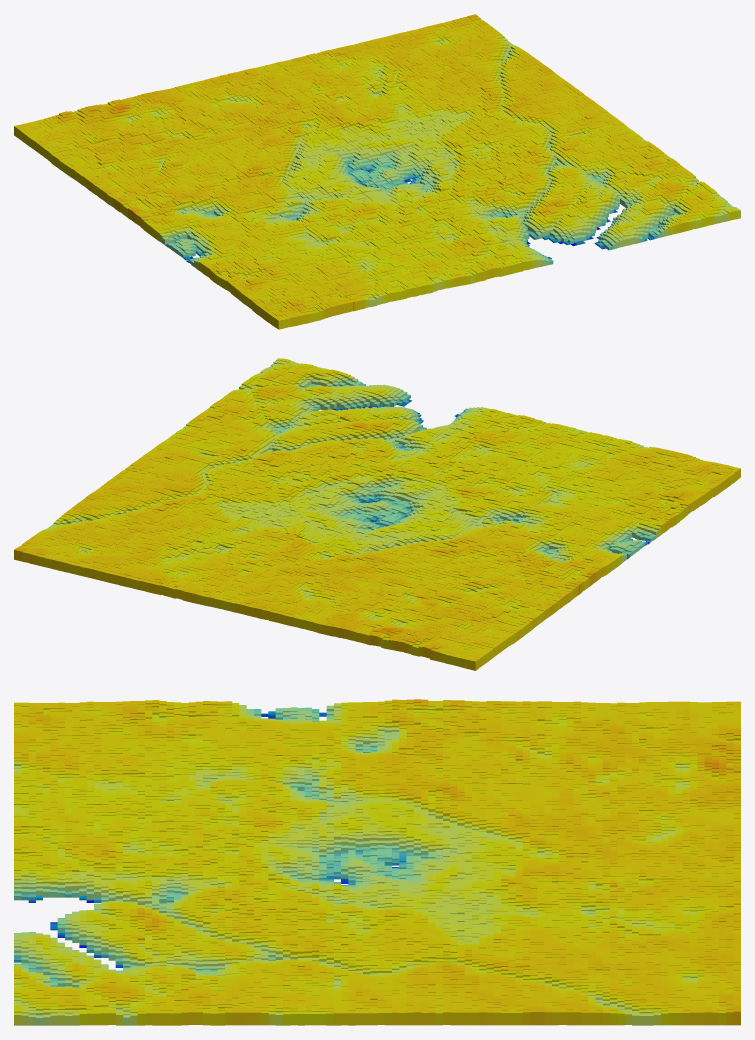
File: population.glb
The picture shows the model from 3 angles, top to bottom: view 1: azimuth 30°, elevation 25°; view 2: azimuth 150°, elevation 25°; view 3: azimuth 270°, elevation 25°; orthographic projection. The views are drawn at different scales.
Visible parts, largest first — view 1: population; view 2: population; view 3: population.
Boxes of the visible parts, x1,y1,x2,y2 form: population: [14, 14, 740, 329]; population: [14, 358, 740, 670]; population: [14, 699, 740, 1025].
Bounding box in the file's own units: 10035 × 266 × 9969.
